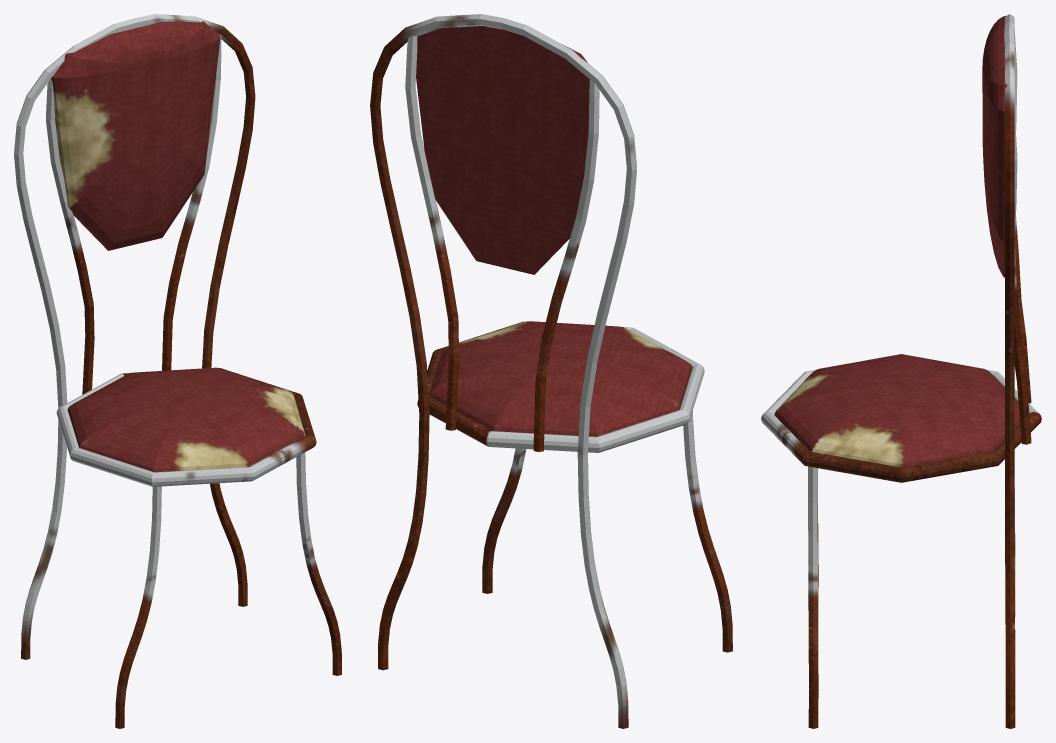
Rendered from cadeira variada 2.fbx.
3 renders of one model, left to right at view 1: azimuth 30°, elevation 25°; view 2: azimuth 150°, elevation 25°; view 3: azimuth 270°, elevation 25°, orthographic. The views are drawn at different scales.
Parts seen in each view (by area): view 1: Sphere.001; view 2: Sphere.001; view 3: Sphere.001.
Boxes of the visible parts, box(x1,y1,x2,y2) form: Sphere.001: box(14, 14, 341, 728); Sphere.001: box(370, 14, 732, 728); Sphere.001: box(761, 14, 1041, 728).
Bounding box in the file's own units: 61.16 × 149 × 59.06.
